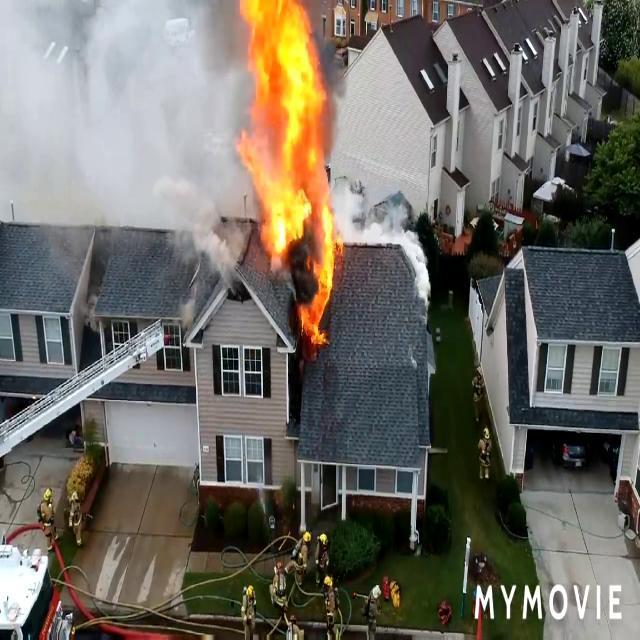Fire: (231, 0, 336, 316)
Smoke: (11, 0, 246, 272), (395, 224, 433, 313)
